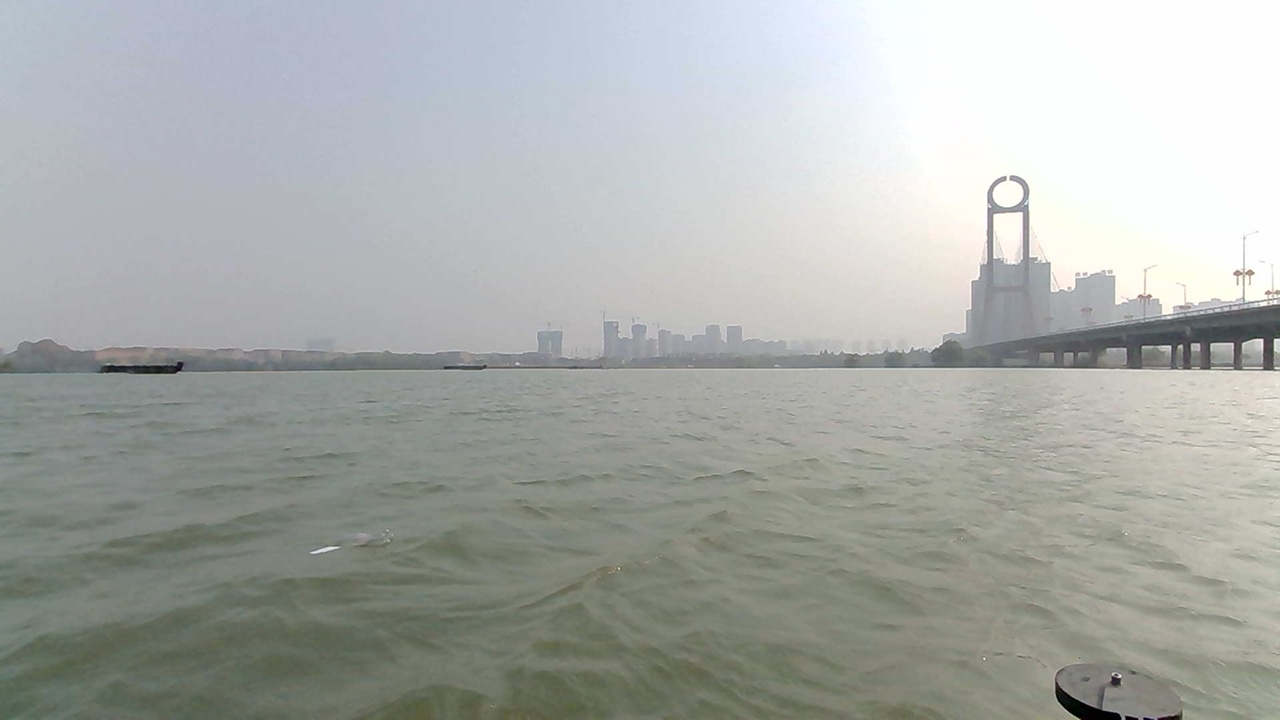bottle: (248, 516, 398, 580)
